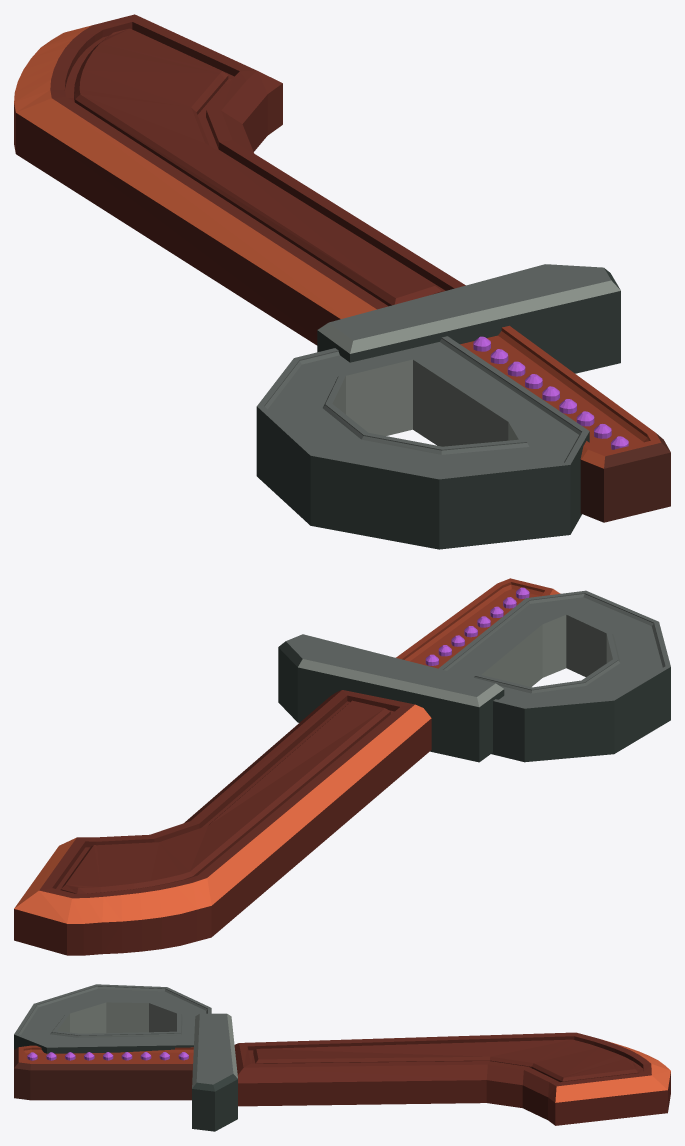
File: reidite_sword.fbx
3 renders of one model, top to bottom at view 1: azimuth 30°, elevation 25°; view 2: azimuth 150°, elevation 25°; view 3: azimuth 270°, elevation 25°, orthographic. The views are drawn at different scales.
Parts seen in each view (by area): view 1: reidite_sword; view 2: reidite_sword; view 3: reidite_sword.
Boxes of the visible parts, x1,y1,x2,y2 form: reidite_sword: (14,14,670,549); reidite_sword: (14,578,670,955); reidite_sword: (14,984,670,1131).
Bounding box in the file's own units: 0.79 × 0.155 × 1.99.
Materials: 1 (1 with a texture image).
